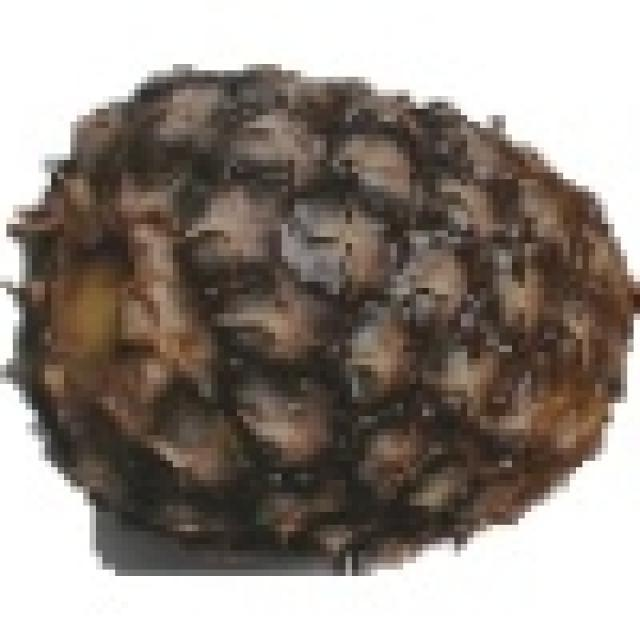pineapple: (26, 58, 640, 557)
